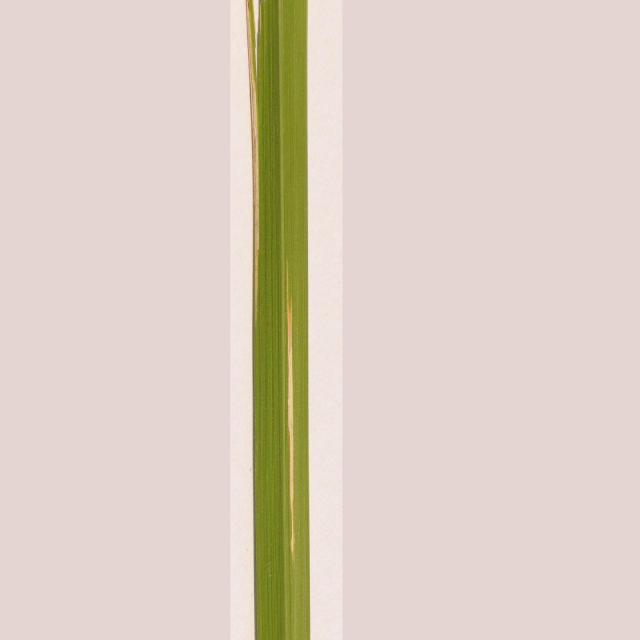Bacterial leaf blight: (229, 1, 343, 640)
